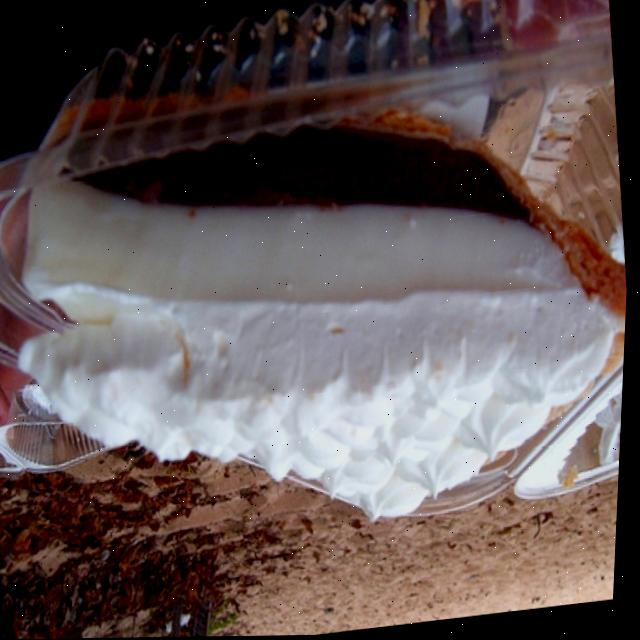蛋糕甜品: (0, 6, 640, 598)
